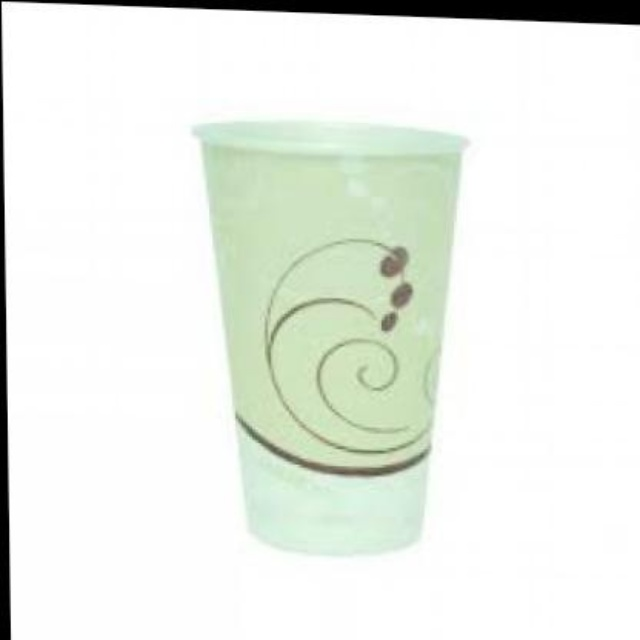trash: (195, 122, 463, 552)
